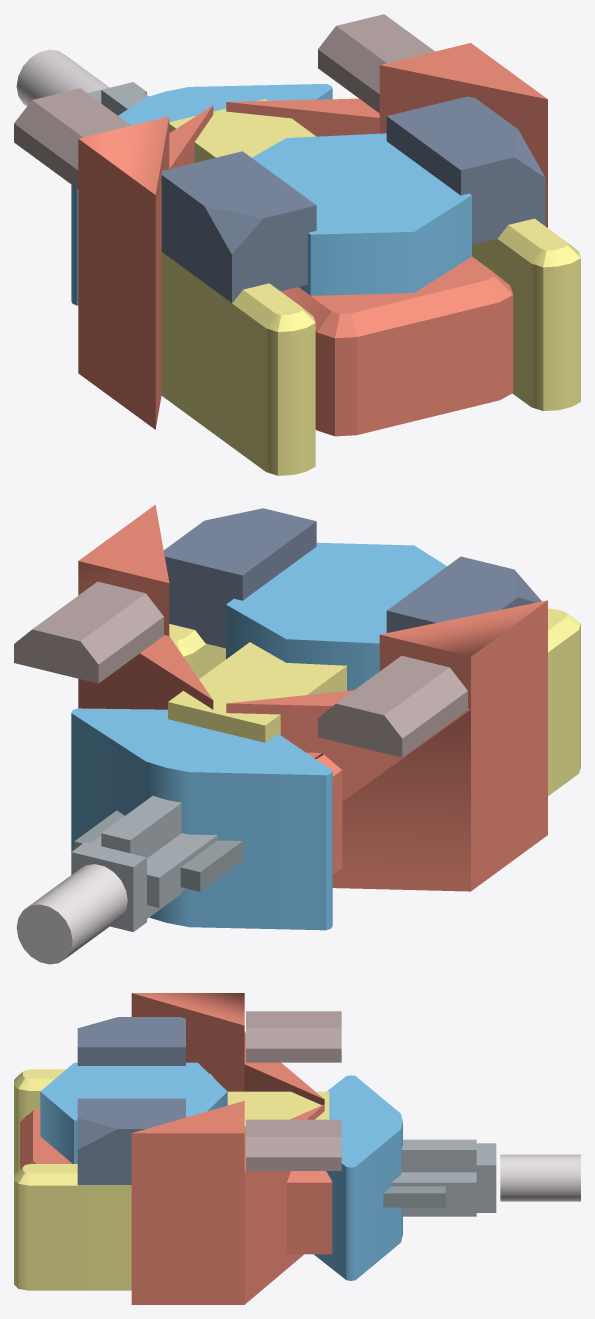
The model's file is port35.gltf.
3 views of the same model, one above another, from view 1: azimuth 30°, elevation 25°; view 2: azimuth 150°, elevation 25°; view 3: azimuth 270°, elevation 25° (orthographic). The views are drawn at different scales.
Parts seen in each view (by area): view 1: polySurface410; view 2: polySurface410; view 3: polySurface410.
Part boxes in pixels (bbox=[...]): polySurface410: bbox=[14, 14, 580, 475]; polySurface410: bbox=[14, 504, 580, 964]; polySurface410: bbox=[14, 993, 580, 1304].
Bounding box in the file's own units: 0.28 × 0.16 × 0.4791.
